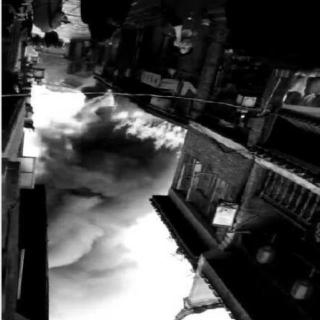Fire: (55, 92, 188, 152)
Smoke: (40, 153, 168, 294)
